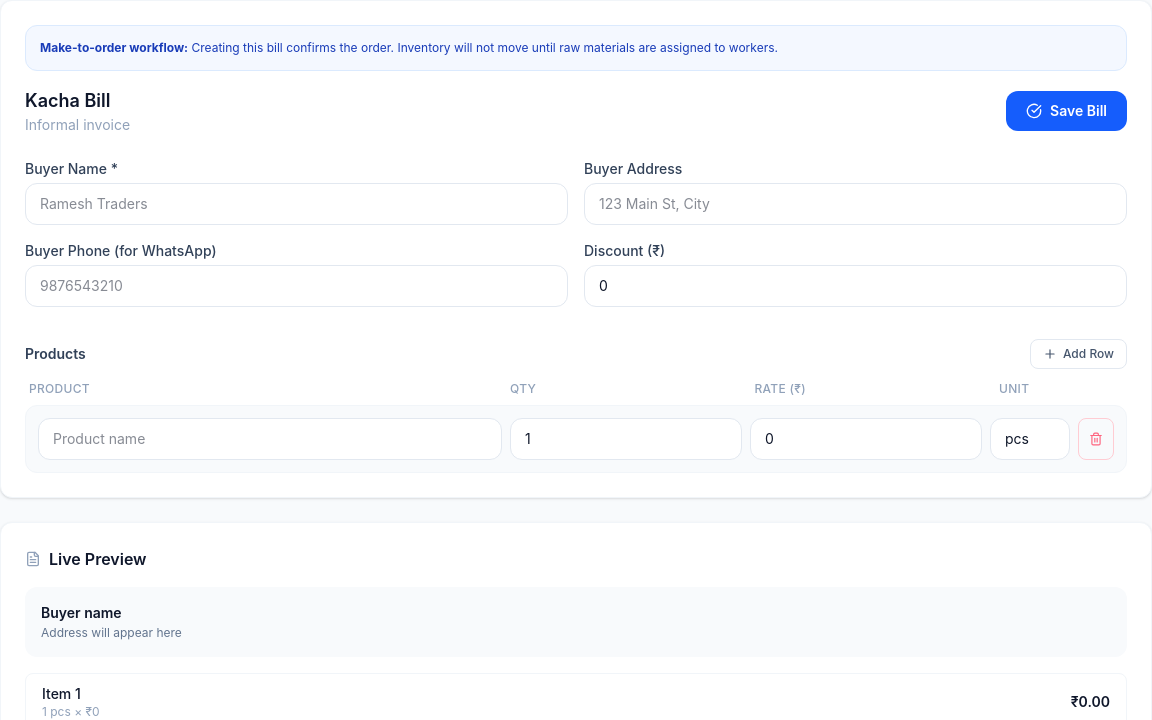
Test: D2: Key Feature Pages RTL & MSW Integration Suite › Bills Pages (KachaBillPage & PakkaBillPage) › renders Kacha bill form and executes user calculation action
The width and height of the screenshot is (1152, 720).
Expected: the heading "Kacha Bill" is shown, [25,90,110,111]
# User action: input buyer name and product details
Type "Metro Retailers" into the field with placeholder "Ramesh Traders" at (296, 204), box [25,183,568,225]
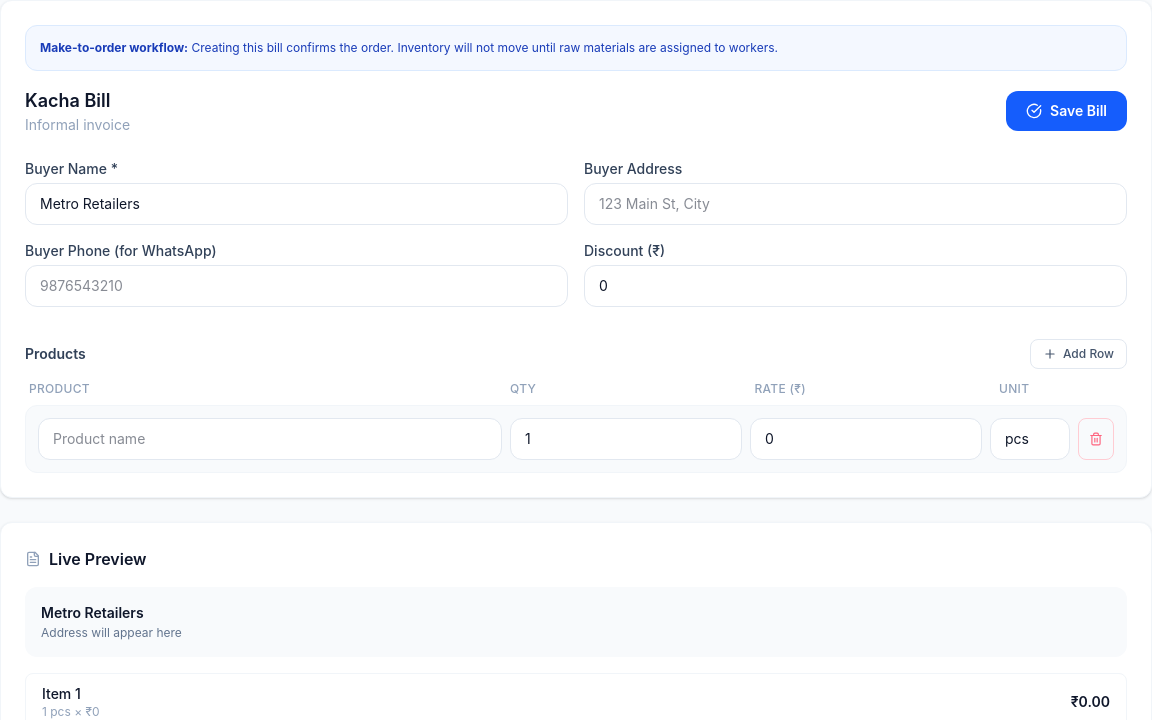
# Verify calculation
Replace the text in the 3rd number field with placeholder "0.00" with "250" at (866, 439), box [750,418,982,460]
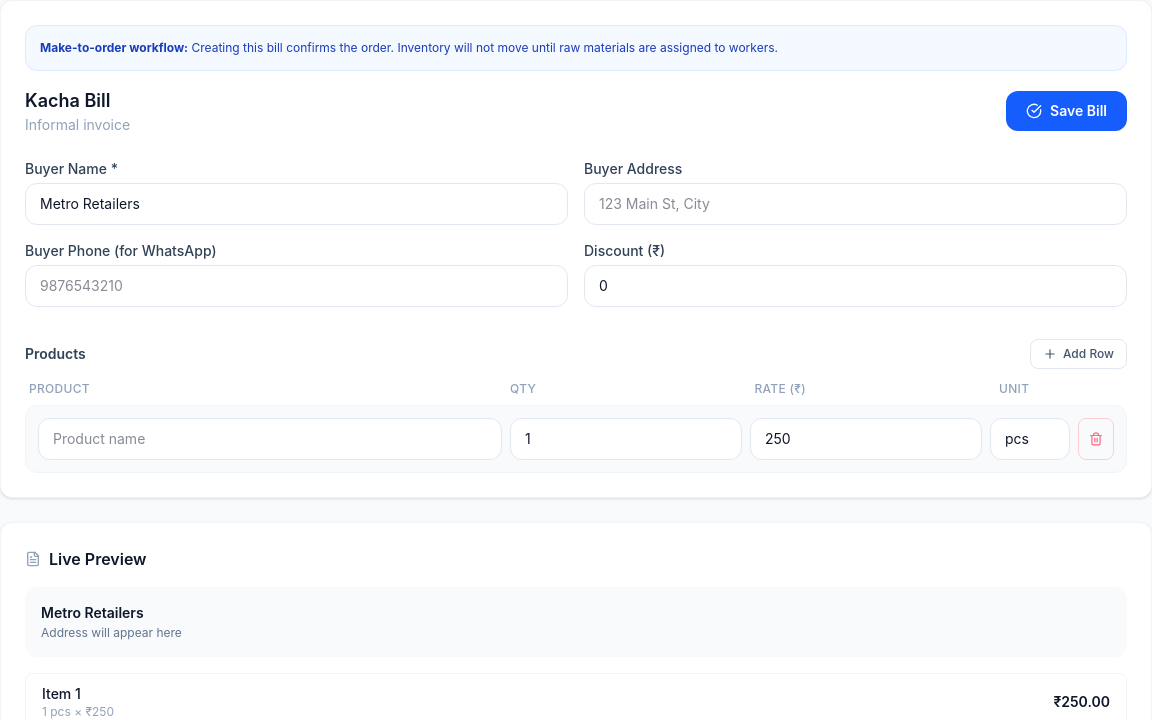
Expected: the text "₹250.00" is shown, [1053,692,1110,712]
